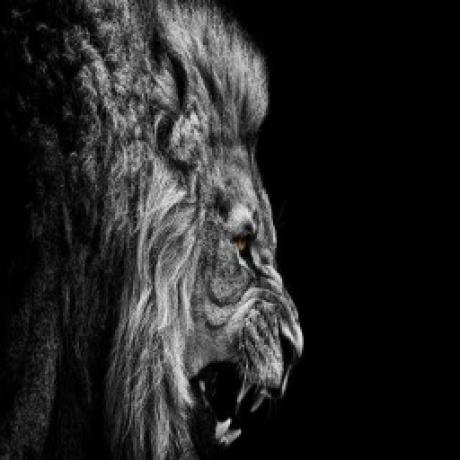Lion: (51, 0, 306, 460)
